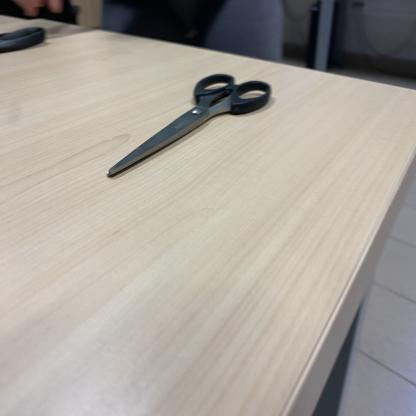scissors: (106, 72, 274, 180)
